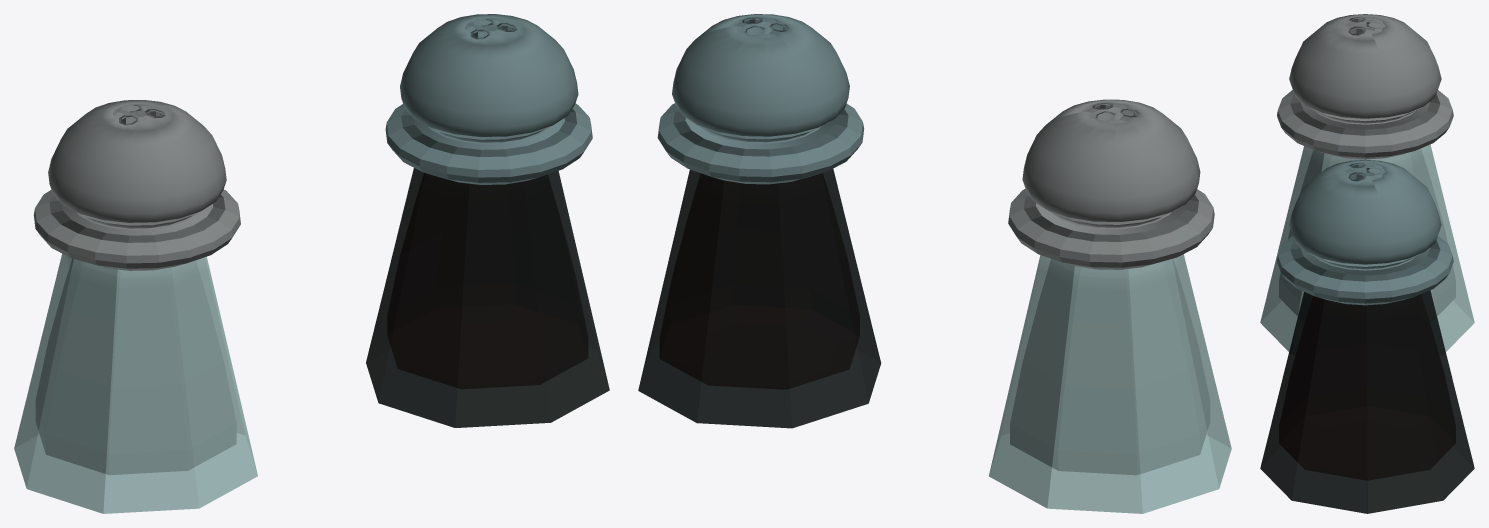
Rendered from Salt n Pepper _ Done.fbx.
3 views of the same model, side by side, from view 1: azimuth 30°, elevation 25°; view 2: azimuth 150°, elevation 25°; view 3: azimuth 270°, elevation 25° (orthographic). The views are drawn at different scales.
Parts seen in each view (by area): view 1: Salt_Glass, Pepper_Glass, SALT_metal, Pepper_metal; view 2: Salt_Glass, Pepper_Glass, SALT_metal, Pepper_metal; view 3: Pepper_Glass, SALT_metal, Pepper_metal, Salt_Glass.
Part boxes in pixels (x1,y1,x2,y2): Salt_Glass: [14, 253, 257, 513]; Pepper_Glass: [366, 168, 609, 427]; SALT_metal: [33, 100, 240, 270]; Pepper_metal: [385, 14, 592, 184]; Salt_Glass: [989, 254, 1231, 513]; Pepper_Glass: [638, 169, 881, 428]; SALT_metal: [1008, 99, 1214, 269]; Pepper_metal: [657, 14, 864, 184]; Pepper_Glass: [1260, 290, 1474, 513]; SALT_metal: [1277, 14, 1453, 159]; Pepper_metal: [1277, 159, 1453, 305]; Salt_Glass: [1260, 144, 1474, 351].
Bounding box in the file's own units: 5.22 × 3.07 × 2.
